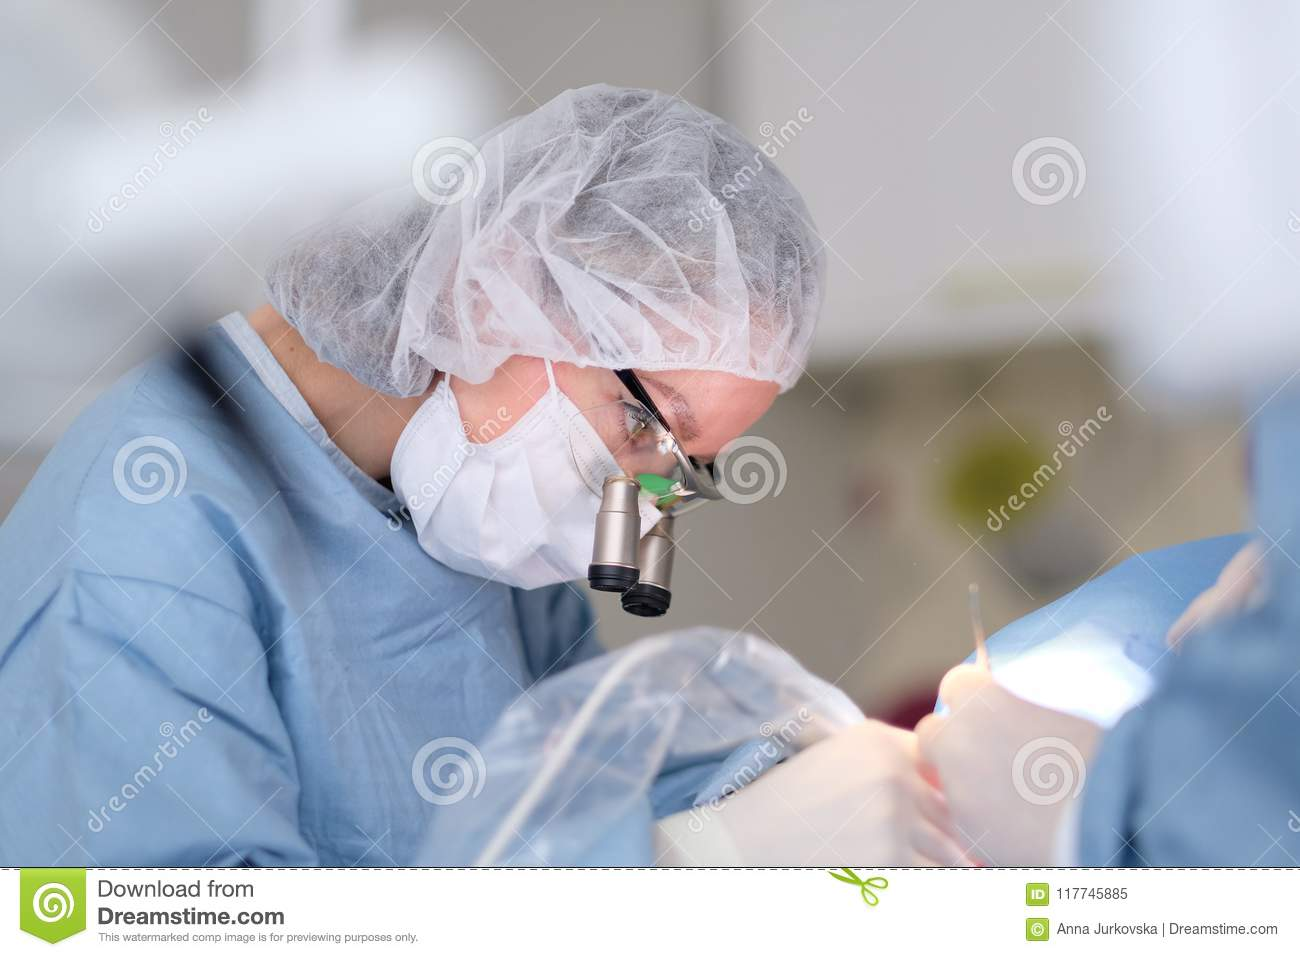mask: (404, 408, 656, 611)
